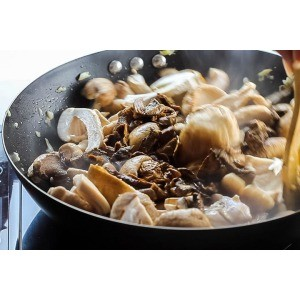mushroom_brain food: (110, 83, 276, 186)
